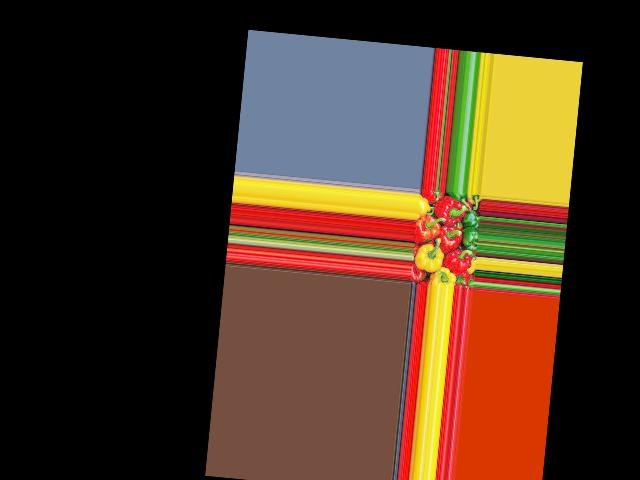bell_pepper: (416, 197, 430, 215)
